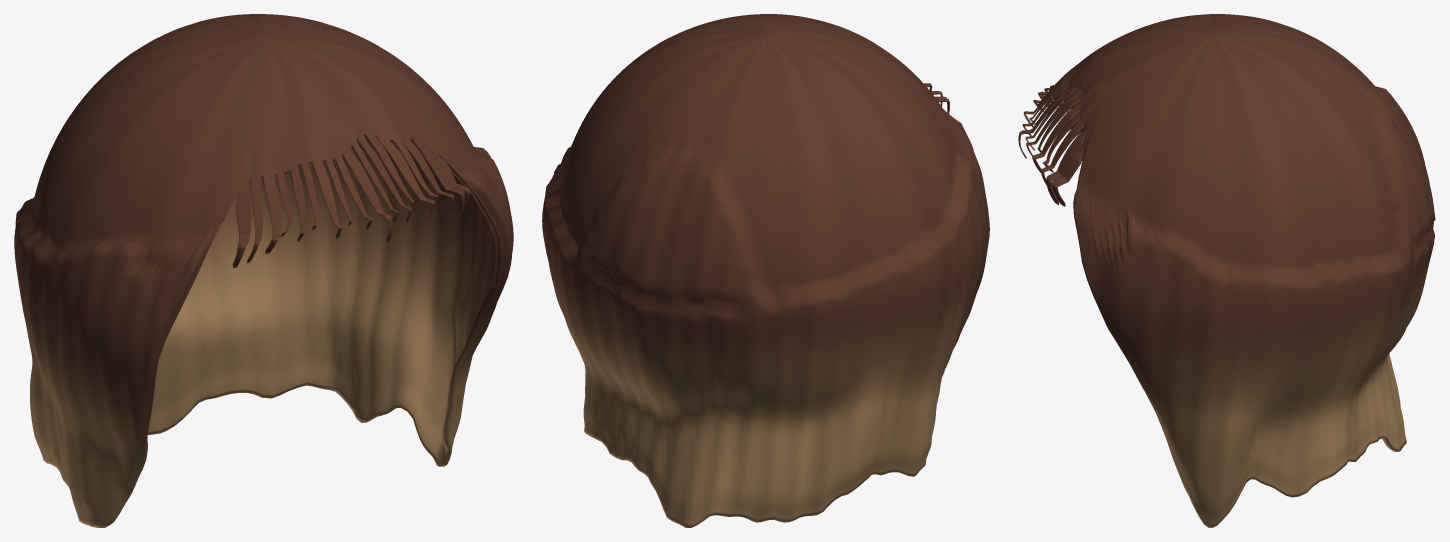
File: side-sweep-cap-ombre.glb
The picture shows the model from 3 angles, left to right: view 1: azimuth 30°, elevation 25°; view 2: azimuth 150°, elevation 25°; view 3: azimuth 270°, elevation 25°; orthographic projection. The views are drawn at different scales.
Visible parts, largest first — view 1: Wispy bangs / continuous crown; view 2: Wispy bangs / continuous crown; view 3: Wispy bangs / continuous crown.
Boxes of the visible parts, left/top/right/bottom form: Wispy bangs / continuous crown: left=14, top=14, right=513, bottom=527; Wispy bangs / continuous crown: left=542, top=14, right=989, bottom=527; Wispy bangs / continuous crown: left=1018, top=14, right=1435, bottom=527.
Size of the model in its own units: 0.8388 by 0.8705 by 0.7862.
